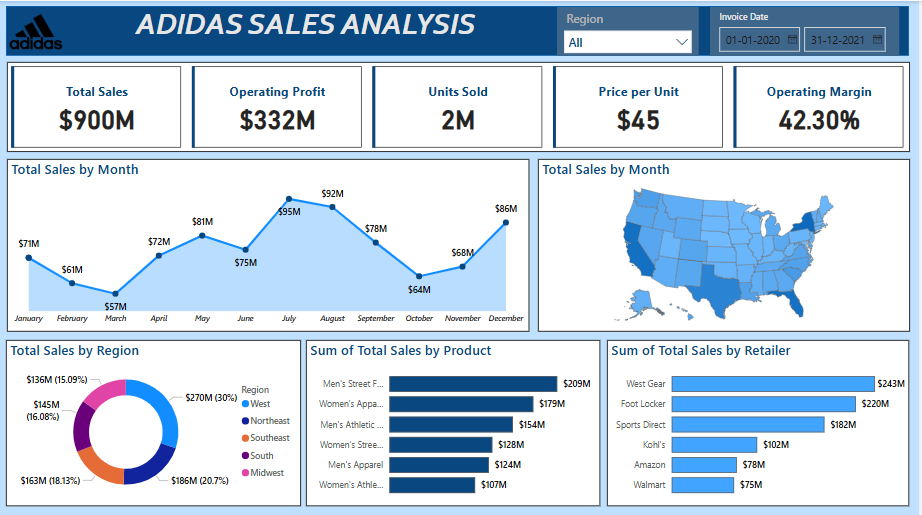

This screenshot's page, from the dashboard's own definition file:
{"tool":"powerbi","page":{"name":"Page 1","canvas":[1280,720],"ordinal":0},"visuals":[{"type":"shape","box":[10.1,0,1255,70],"z":0},{"type":"textbox","box":[143.2,0,565.7,72.3],"z":1000},{"type":"cardVisual","fields":{"Data":["Sum(Data Sales Adidas.Total Sales)","Sum(Data Sales Adidas.Operating Profit)","Sum(Data Sales Adidas.Units Sold)","Avg(Data Sales Adidas.Price per Unit)","Avg(Data Sales Adidas.Operating Margin)"]},"box":[7.1,84.7,1255.1,125.6],"z":2000},{"type":"areaChart","title":"Total Sales by Month","fields":{"Category":["Data Sales Adidas.Invoice Date.Variation.Date Hierarchy.Month"],"Y":["Sum(Data Sales Adidas.Total Sales)"]},"box":[11.3,220.2,725.6,259.8],"z":3000},{"type":"shapeMap","title":"Total Sales by Month","fields":{"Category":["Data Sales Adidas.State"],"Value":["Sum(Data Sales Adidas.Total Sales)"]},"box":[749.6,220.2,516.7,259.8],"z":3001},{"type":"donutChart","fields":{"Category":["Data Sales Adidas.Region"],"Y":["Sum(Data Sales Adidas.Total Sales)"]},"box":[11.3,489.9,410,230.1],"z":3002},{"type":"barChart","fields":{"Category":["Data Sales Adidas.Product"],"Y":["Sum(Data Sales Adidas.Total Sales)"]},"box":[433.4,489.9,402.4,230.1],"z":3003},{"type":"barChart","fields":{"Y":["Sum(Data Sales Adidas.Total Sales)"],"Category":["Data Sales Adidas.Retailer"]},"box":[845.6,489.9,419.3,230.1],"z":3004},{"type":"slicer","fields":{"Values":["Data Sales Adidas.Region"]},"box":[778.4,0,197.4,68.1],"z":3005},{"type":"slicer","fields":{"Values":["Data Sales Adidas.Invoice Date"]},"box":[988.2,0,262.6,67.8],"z":3006},{"type":"image","box":[9.9,0,83.3,84.7],"z":3007}]}

Visuals, with their boxes in screenshot pixels (x1, y1, x2, y2), scaled from the page's 1280x720 canvas onto the 922x515 screenshot:
shape: <region>7, 0, 911, 50</region>
textbox: <region>103, 0, 511, 52</region>
cardVisual - Sum(Data Sales Adidas.Total Sales) x Sum(Data Sales Adidas.Operating Profit): <region>5, 61, 909, 150</region>
"Total Sales by Month" areaChart: <region>8, 158, 531, 343</region>
"Total Sales by Month" shapeMap: <region>540, 158, 912, 343</region>
donutChart - Data Sales Adidas.Region x Sum(Data Sales Adidas.Total Sales): <region>8, 350, 303, 514</region>
barChart - Data Sales Adidas.Product x Sum(Data Sales Adidas.Total Sales): <region>312, 350, 602, 514</region>
barChart - Sum(Data Sales Adidas.Total Sales) x Data Sales Adidas.Retailer: <region>609, 350, 911, 514</region>
slicer - Data Sales Adidas.Region: <region>561, 0, 703, 49</region>
slicer - Data Sales Adidas.Invoice Date: <region>712, 0, 901, 48</region>
image: <region>7, 0, 67, 61</region>
